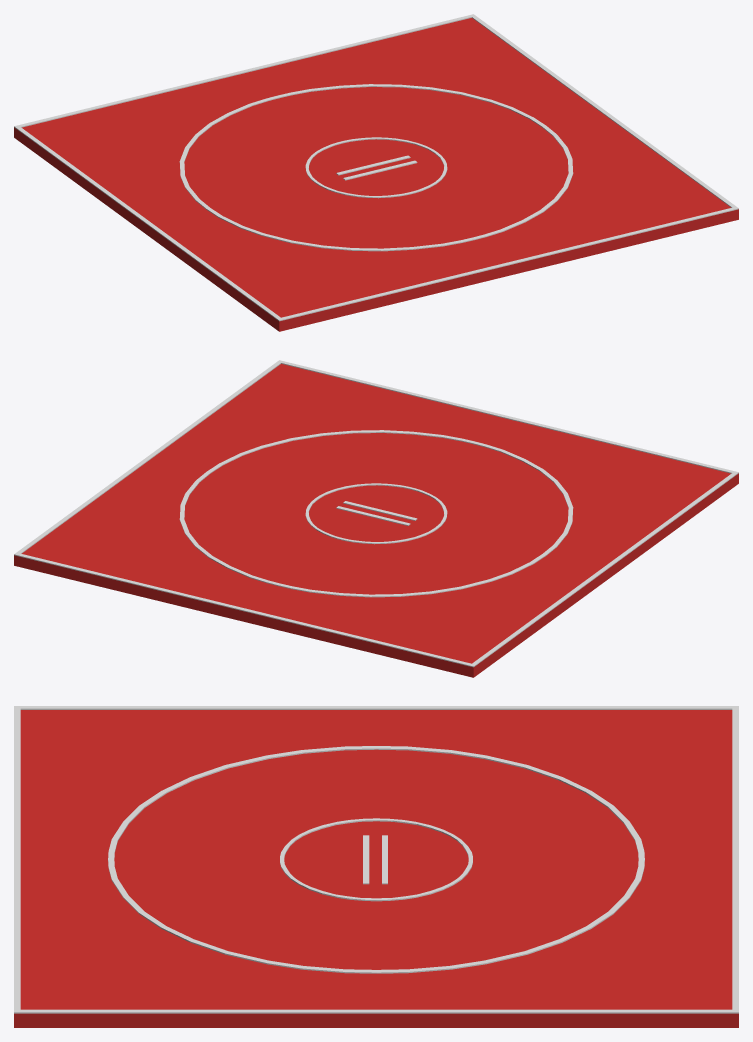
The model's file is Wrestling Mat.fbx.
3 views of the same model, one above another, from view 1: azimuth 30°, elevation 25°; view 2: azimuth 150°, elevation 25°; view 3: azimuth 270°, elevation 25° (orthographic). The views are drawn at different scales.
Visible parts, largest first — view 1: Wrestling Mat; view 2: Wrestling Mat; view 3: Wrestling Mat.
Boxes of the visible parts, <box> form: Wrestling Mat: <box>14,14,738,331</box>; Wrestling Mat: <box>14,360,738,677</box>; Wrestling Mat: <box>14,706,738,1027</box>.
Bounding box in the file's own units: 2300 × 54.32 × 2300.
